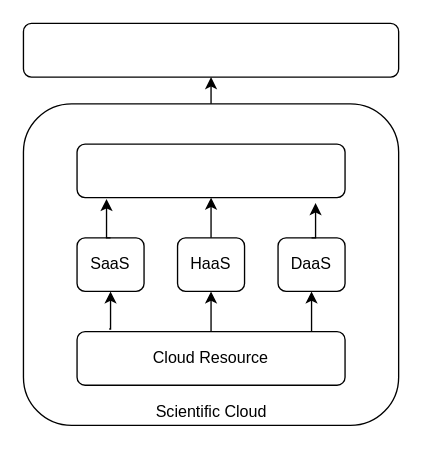
This 422x449 diagram has some shape labels left out. The shapes that lost their labels are listed below. From the top down, each one's centre as x and y in pixels, then its label:
(x=210, y=49): Application
(x=210, y=170): IaaS
